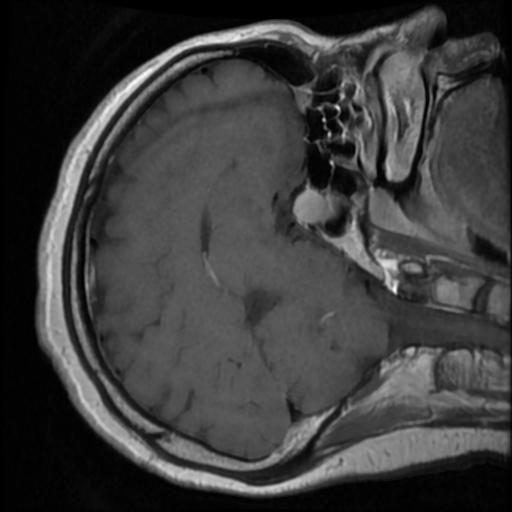pituitary tumour: (292, 188, 326, 225)
